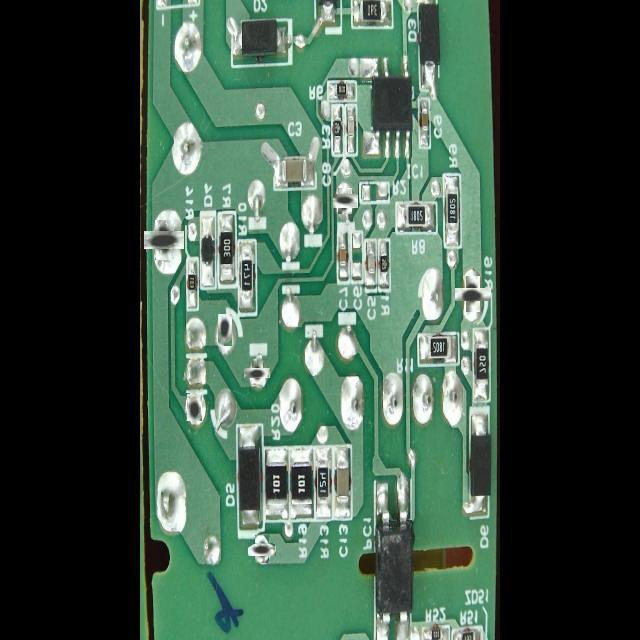damged: (150, 225, 179, 255), (460, 282, 486, 306), (218, 314, 232, 346), (186, 393, 202, 421), (252, 539, 272, 560), (335, 192, 355, 212), (248, 363, 267, 382)
